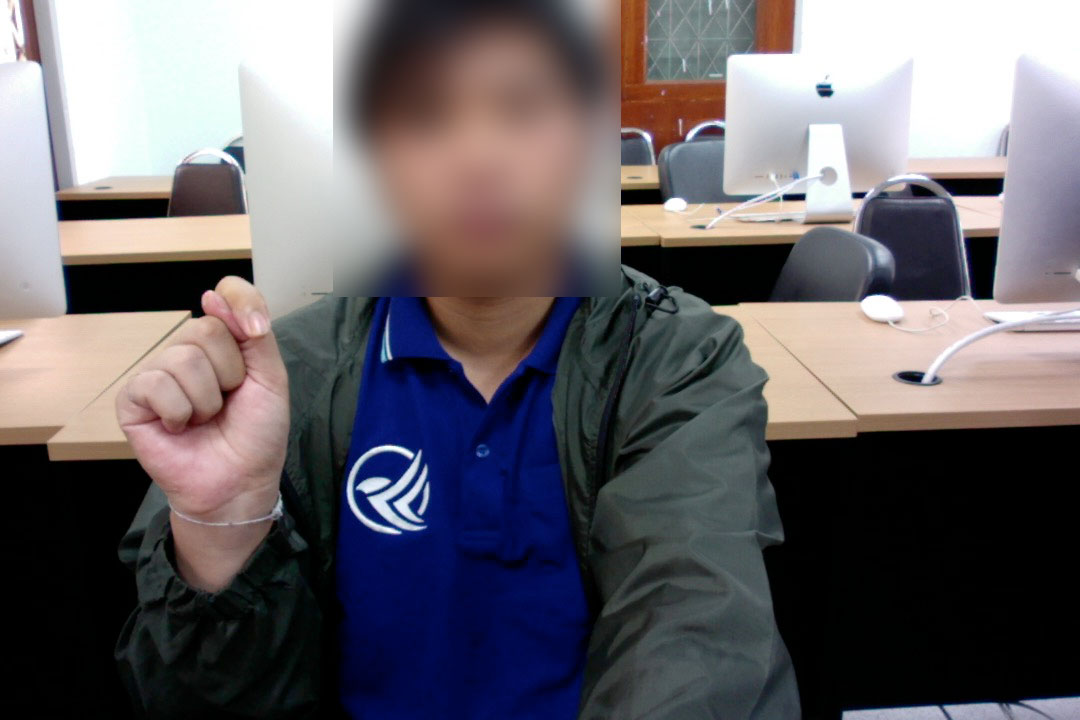tor: (110, 273, 294, 535)
